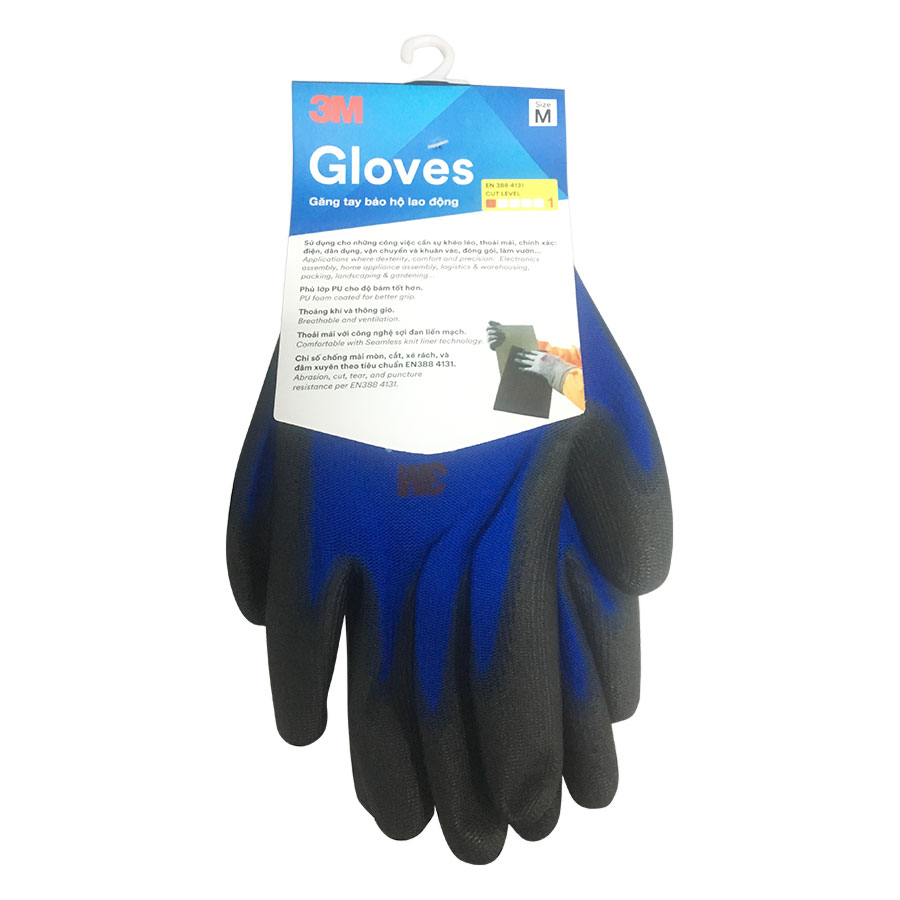3M: (300, 84, 369, 136), (392, 457, 456, 502)
